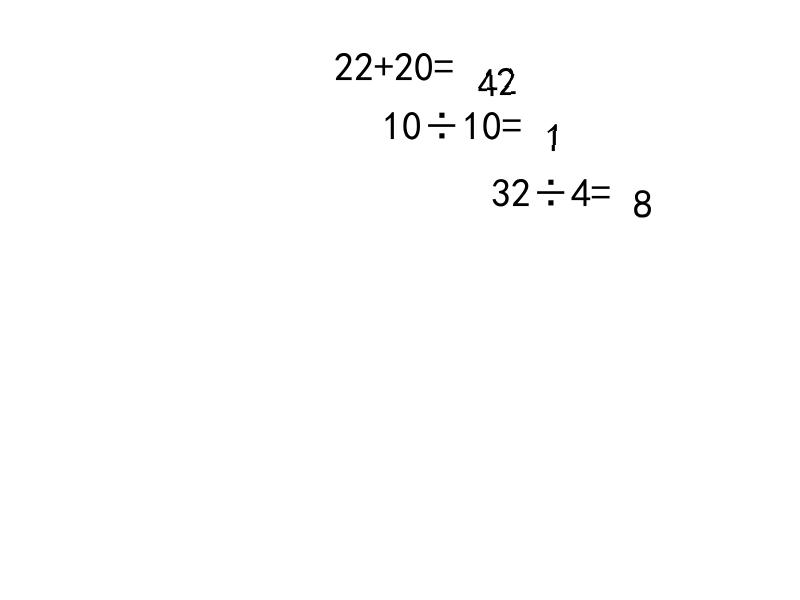+: (374, 46, 394, 76)
0: (414, 46, 434, 76), (402, 105, 422, 134), (482, 105, 502, 134)
1: (382, 105, 402, 134), (462, 105, 482, 134), (532, 105, 552, 134)
2: (334, 46, 354, 76), (354, 46, 374, 76), (394, 46, 414, 76), (484, 46, 504, 76), (511, 172, 531, 201)
3: (491, 172, 511, 201)
4: (464, 46, 484, 76), (571, 172, 591, 201)
8: (621, 172, 641, 201)
=: (434, 46, 454, 76), (502, 105, 522, 134), (591, 172, 611, 201)
÷: (422, 105, 462, 134), (531, 172, 571, 201)
